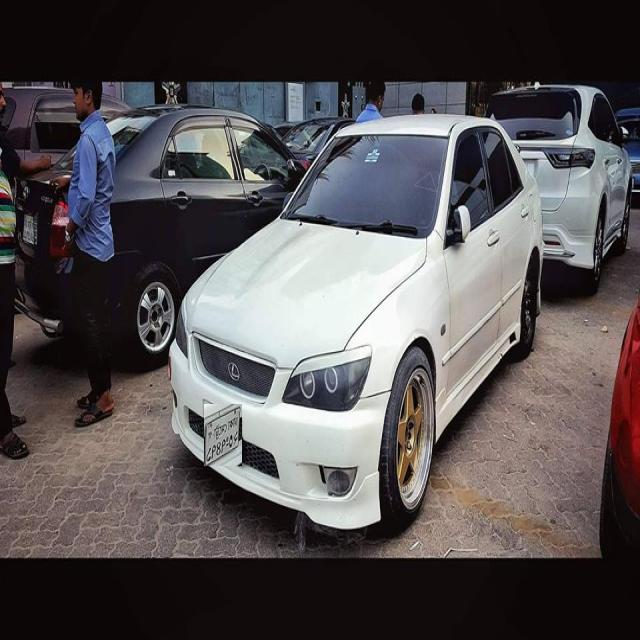numberplate: (204, 404, 242, 466), (22, 210, 38, 246)
